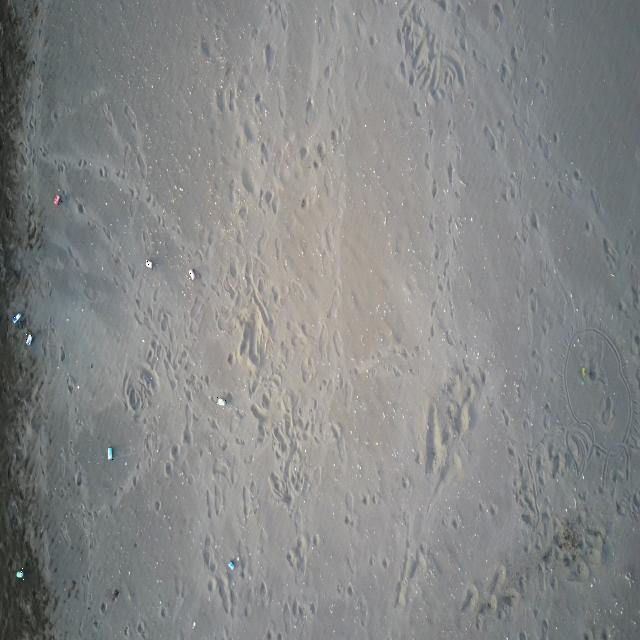tin-and-aluminum-cans: (11, 312, 22, 324), (25, 332, 33, 348), (53, 194, 62, 208), (14, 568, 24, 580), (145, 259, 154, 270), (188, 269, 196, 281), (108, 447, 114, 462), (217, 396, 226, 406), (227, 561, 235, 571)
